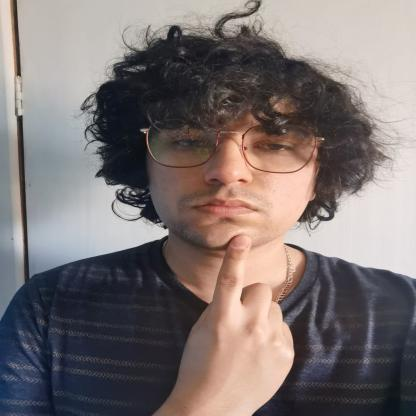T: (182, 232, 295, 416)
